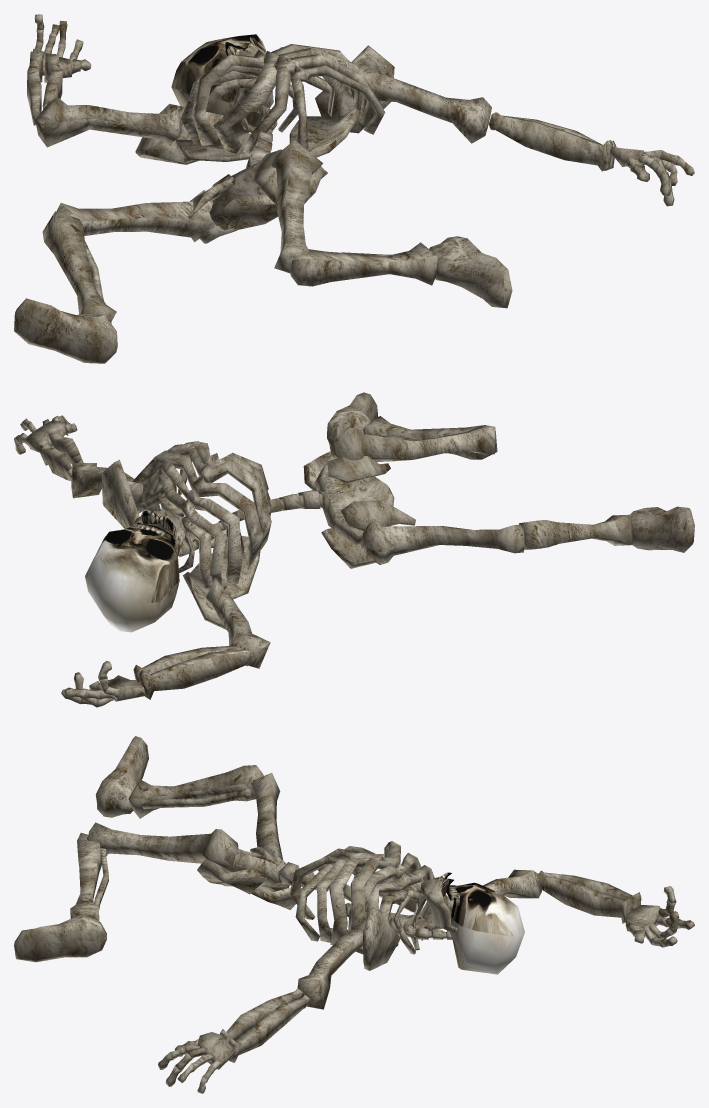
The model's file is skeleton_Dead_GEO.fbx.
3 views of the same model, one above another, from view 1: azimuth 30°, elevation 25°; view 2: azimuth 150°, elevation 25°; view 3: azimuth 270°, elevation 25° (orthographic). The views are drawn at different scales.
Parts seen in each view (by area): view 1: skeleton_Dead_GEO; view 2: skeleton_Dead_GEO; view 3: skeleton_Dead_GEO.
Boxes of the visible parts, x1=… form: skeleton_Dead_GEO: x1=14, y1=14, x2=694, y2=363; skeleton_Dead_GEO: x1=14, y1=392, x2=694, y2=707; skeleton_Dead_GEO: x1=14, y1=736, x2=694, y2=1093.
Bounding box in the file's own units: 4.28 × 0.8284 × 4.15.
